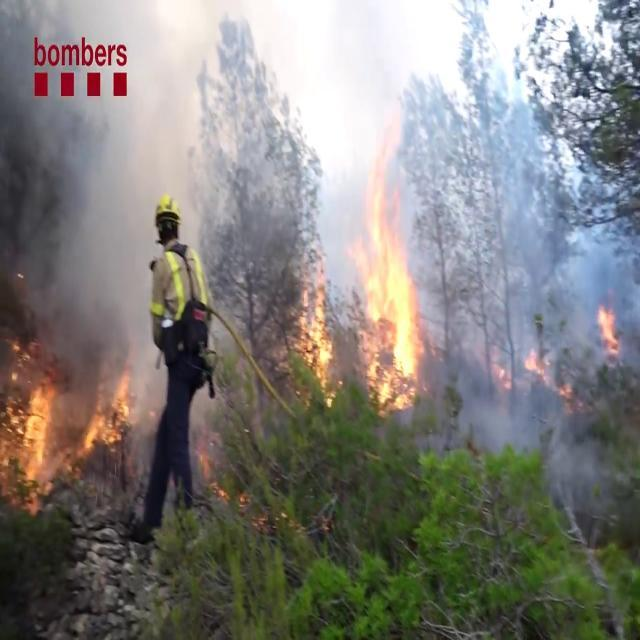Fire: (0, 352, 140, 514), (349, 134, 426, 406), (291, 266, 339, 404), (592, 296, 624, 361)
Smoke: (0, 9, 364, 331), (438, 63, 632, 434)
